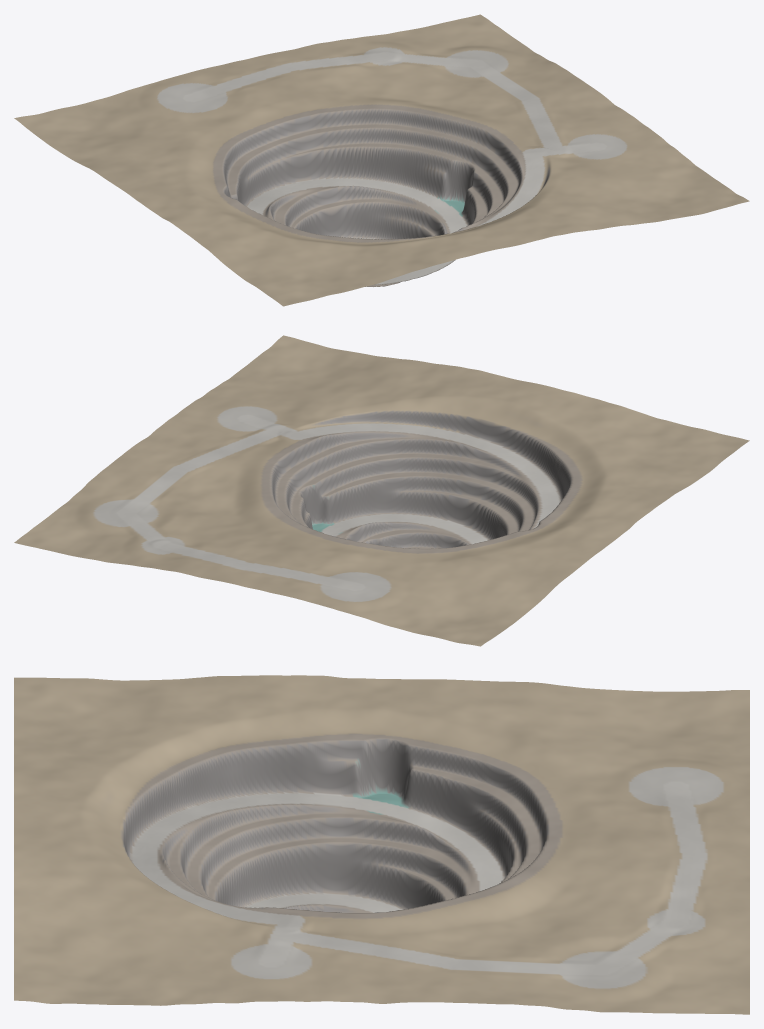
The model's file is terrain.glb.
3 renders of one model, top to bottom at view 1: azimuth 30°, elevation 25°; view 2: azimuth 150°, elevation 25°; view 3: azimuth 270°, elevation 25°, orthographic. The views are drawn at different scales.
Visible parts, largest first — view 1: geometry_0; view 2: geometry_0; view 3: geometry_0.
Part boxes in pixels (x1=…): geometry_0: x1=14, y1=14, x2=749, y2=306; geometry_0: x1=14, y1=335, x2=749, y2=646; geometry_0: x1=14, y1=675, x2=749, y2=1014.
Size of the model in its own units: 400 by 89.77 by 400.
